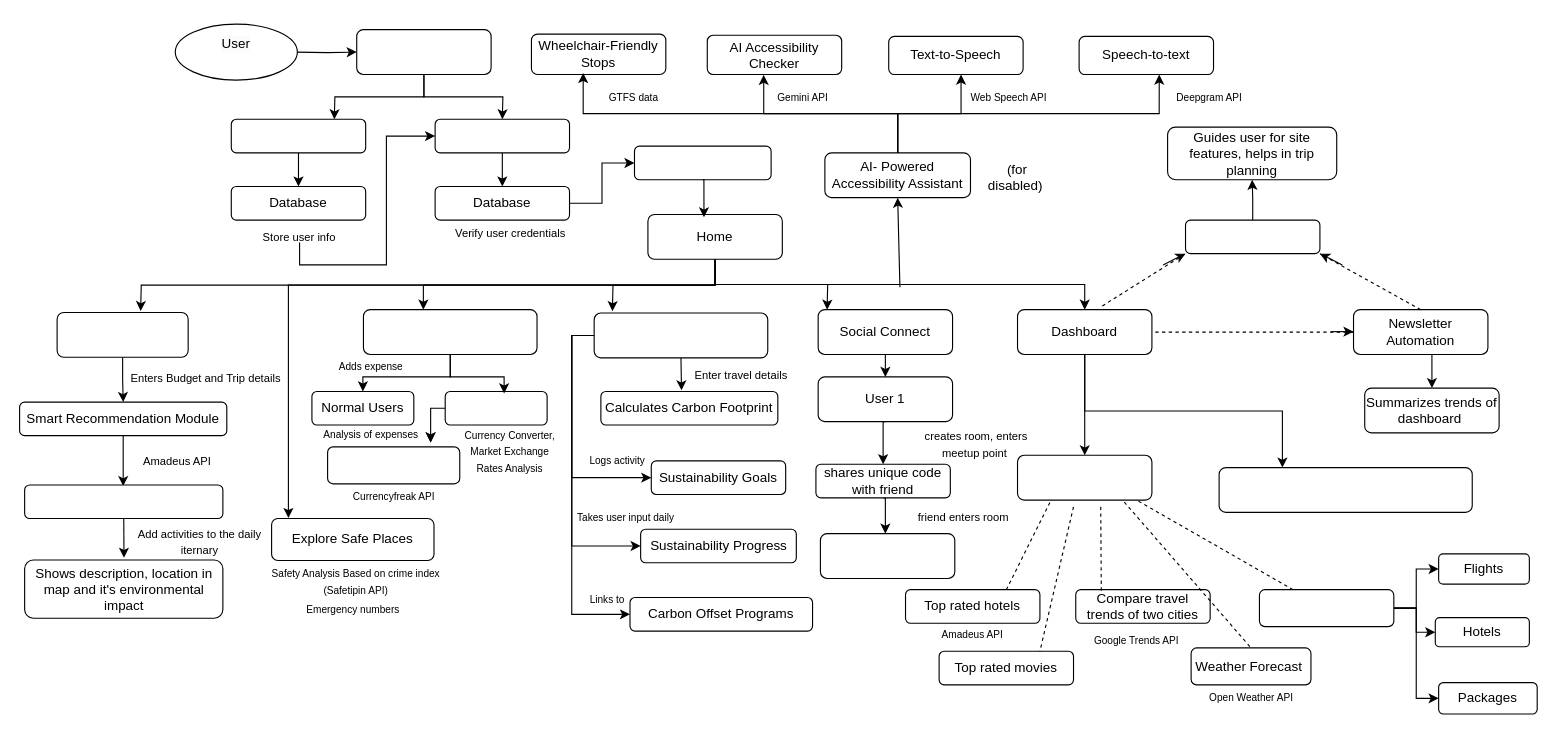
This 1557x734 diagram has some shape labels left out. Here are the shapes that lost their labels. From the top down, the centre of each, then its label:
point 423,51: Authentication
point 298,135: Sign Up
point 502,135: Login
point 702,162: 2FA
point 1252,236: Chatbot
point 122,334: Search and Browse
point 449,331: Expense Tracker
point 680,335: Sustainable Travel Tracker
point 495,407: Businesses
point 393,465: Payment Methods Growth
point 1084,477: Real-Time data analysis
point 123,501: Suggested Activites in that place
point 1345,489: Hotel Booking Cancellation Prediction / Flight Prices Prediction
point 887,555: Real time tracking distance
point 1326,608: Competitors fares' comparison
